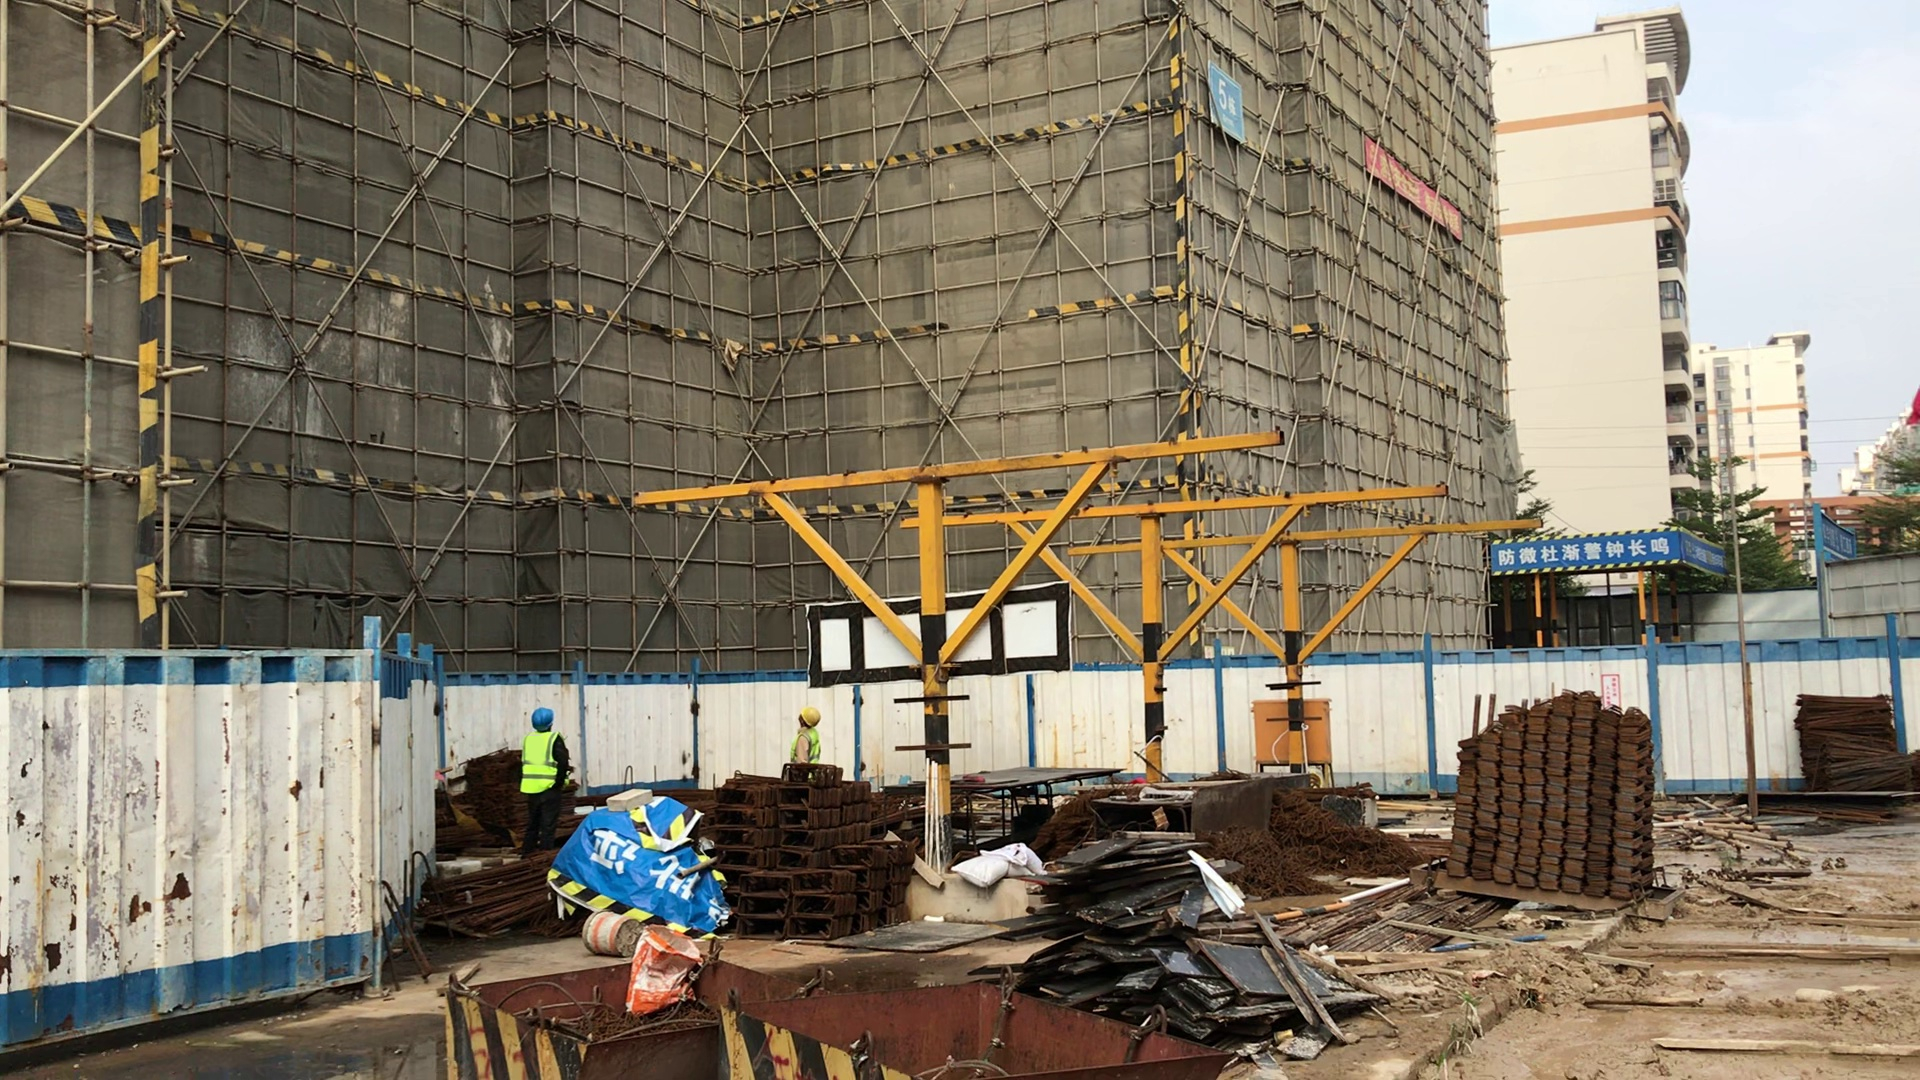ebox: (1243, 691, 1288, 772), (1311, 693, 1341, 778)
helmet: (527, 706, 554, 731), (797, 709, 821, 728)
hopper: (722, 976, 1240, 1080), (430, 954, 724, 1080)
person: (519, 706, 567, 847), (786, 707, 824, 763)
rebar: (435, 852, 550, 936)
slogan: (1363, 138, 1463, 246), (1497, 532, 1682, 567), (1206, 60, 1241, 143), (1819, 522, 1865, 564), (1684, 537, 1733, 576)
vest: (519, 733, 564, 796), (791, 731, 824, 765)
